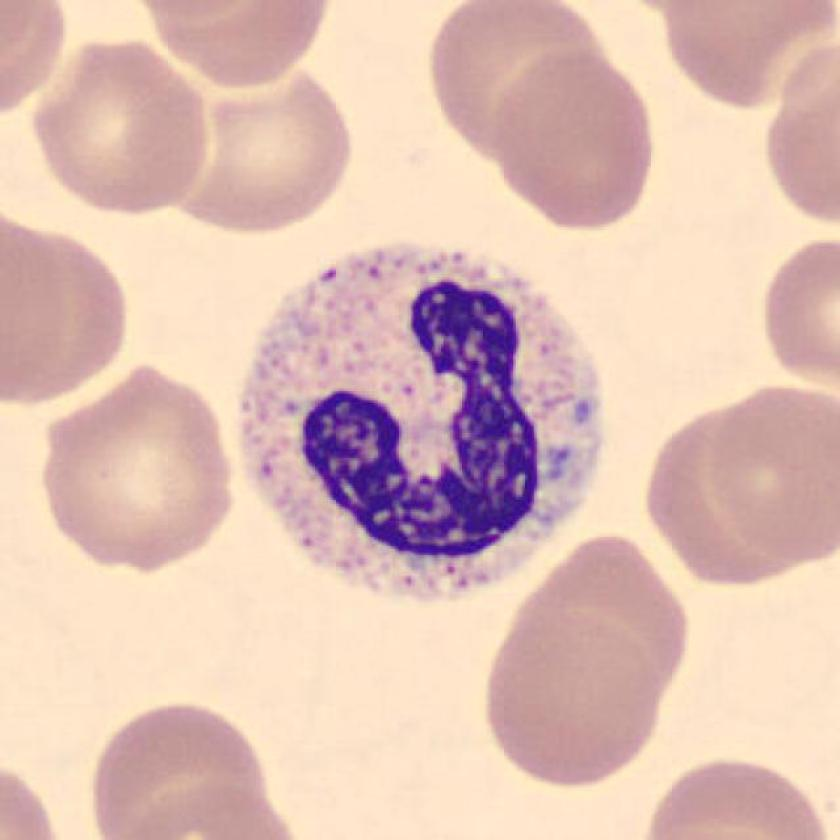neutrophil: (239, 243, 608, 602)
